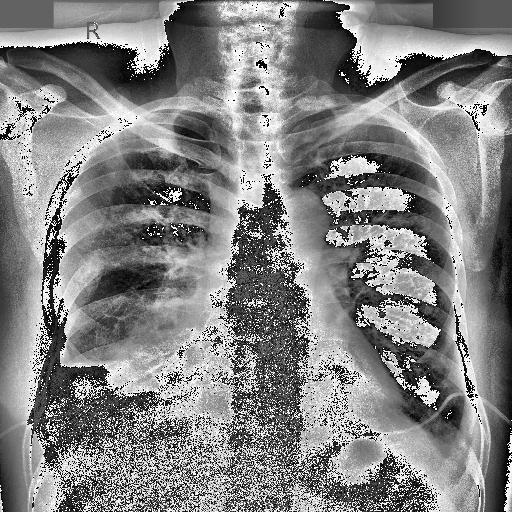0- Aortic enlargement: (262, 186, 330, 249)
10- Pleural effusion: (30, 308, 210, 464), (42, 356, 200, 440), (44, 347, 115, 404), (445, 412, 481, 487)
11- Pleural thickening: (44, 347, 115, 404), (445, 412, 481, 487)
13- Pulmonary fibrosis: (58, 356, 136, 370), (107, 144, 177, 159), (378, 210, 390, 222)
7- Lung Opacity: (91, 295, 226, 423), (110, 304, 216, 392), (103, 322, 200, 396)
